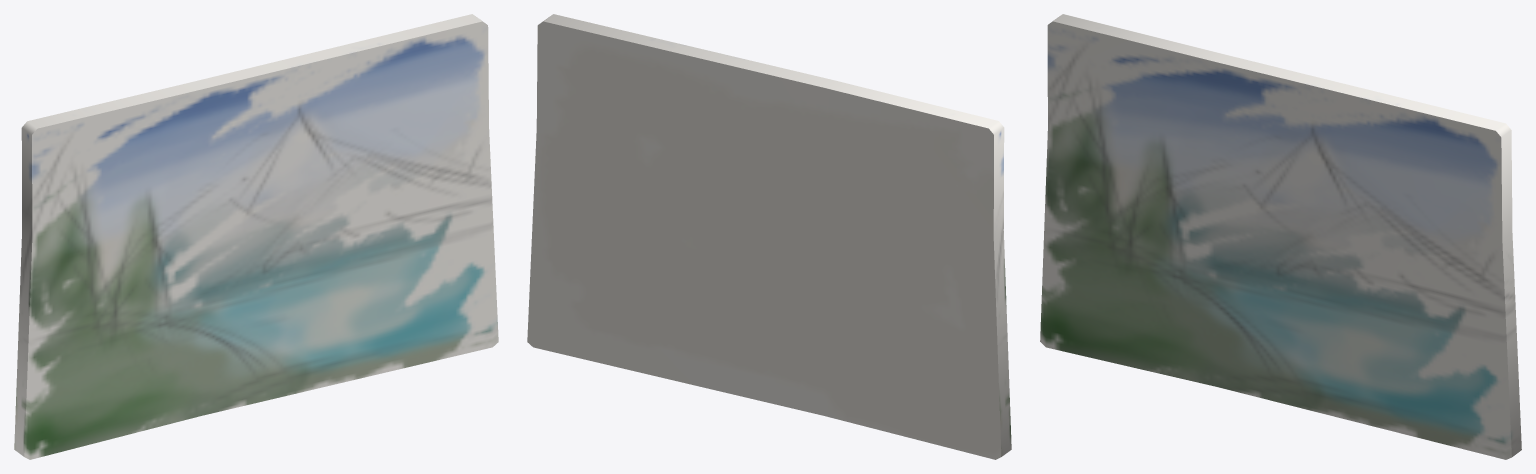
Rendered from SM_PROP_canvas_city.fbx.
3 views of the same model, side by side, from view 1: azimuth 30°, elevation 25°; view 2: azimuth 150°, elevation 25°; view 3: azimuth 330°, elevation 25° (orthographic).
Parts seen in each view (by area): view 1: SM_PROP_canvas_city; view 2: SM_PROP_canvas_city; view 3: SM_PROP_canvas_city.
Boxes of the visible parts, box(x1,y1,x2,y2) form: SM_PROP_canvas_city: box(14, 14, 498, 459); SM_PROP_canvas_city: box(527, 14, 1011, 459); SM_PROP_canvas_city: box(1040, 14, 1521, 459).
Bounding box in the file's own units: 77.4 × 51.44 × 3.13.
